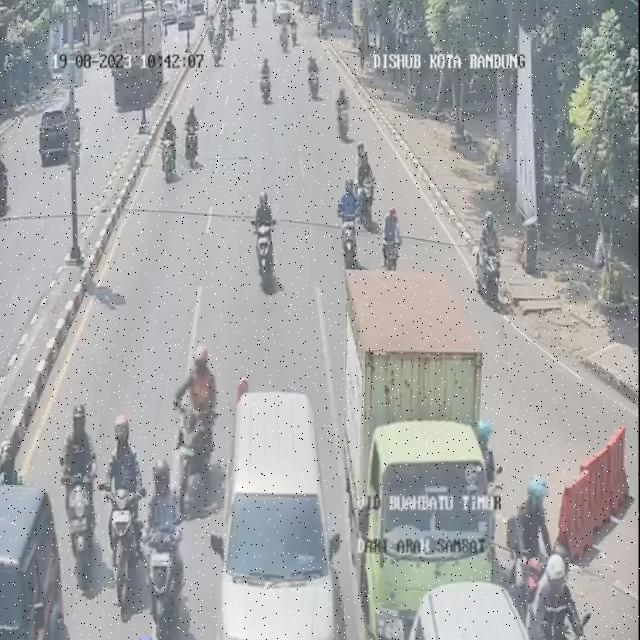cars: (352, 418, 499, 640), (215, 390, 344, 640), (0, 485, 64, 639), (404, 583, 544, 640)
motorcycle: (174, 338, 220, 510), (143, 460, 189, 617), (62, 406, 102, 578), (509, 475, 557, 616), (104, 416, 142, 575), (531, 552, 585, 640), (248, 185, 282, 290), (471, 212, 503, 308), (338, 177, 367, 269), (350, 140, 375, 227), (379, 202, 402, 272), (182, 101, 202, 172), (160, 113, 178, 184), (335, 83, 353, 144), (258, 52, 277, 106), (307, 50, 321, 102), (276, 20, 293, 56), (290, 16, 303, 54), (210, 34, 222, 70)
